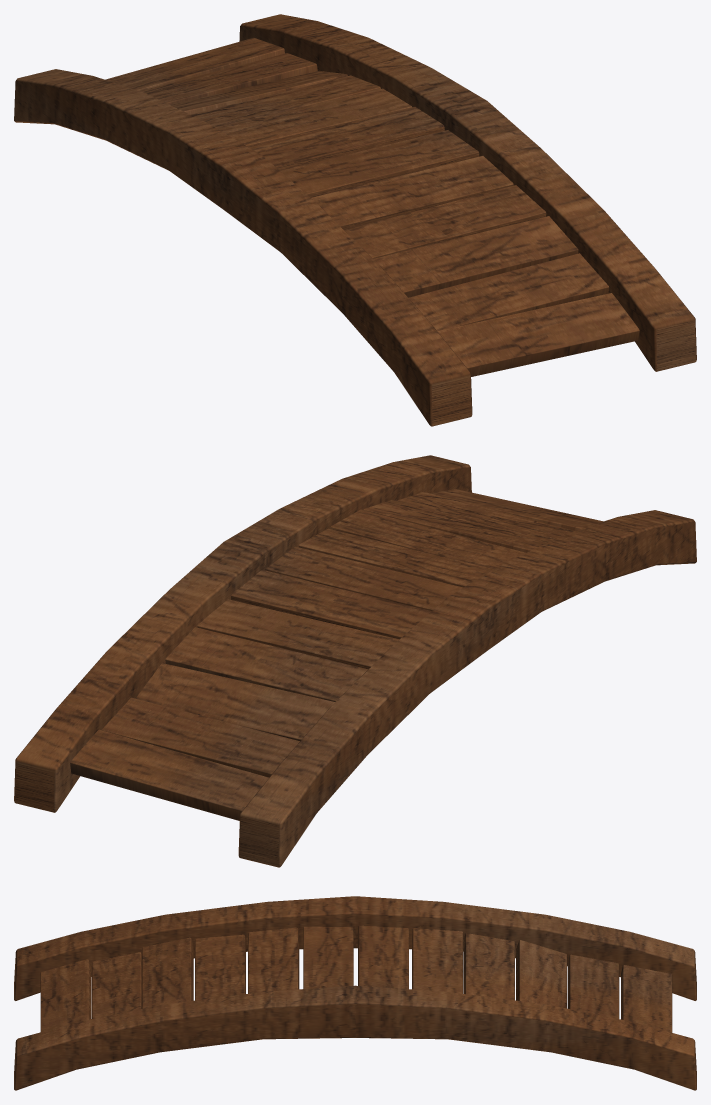
The model's file is w_road.FBX.
3 renders of one model, top to bottom at view 1: azimuth 30°, elevation 25°; view 2: azimuth 150°, elevation 25°; view 3: azimuth 270°, elevation 25°, orthographic. The views are drawn at different scales.
Visible parts, largest first — view 1: bridge_wood_01; view 2: bridge_wood_01; view 3: bridge_wood_01.
Boxes of the visible parts, x1,y1,x2,y2 form: bridge_wood_01: [14, 14, 696, 426]; bridge_wood_01: [14, 455, 696, 867]; bridge_wood_01: [14, 896, 696, 1090].
Size of the model in its own units: 176 by 68.95 by 477.
